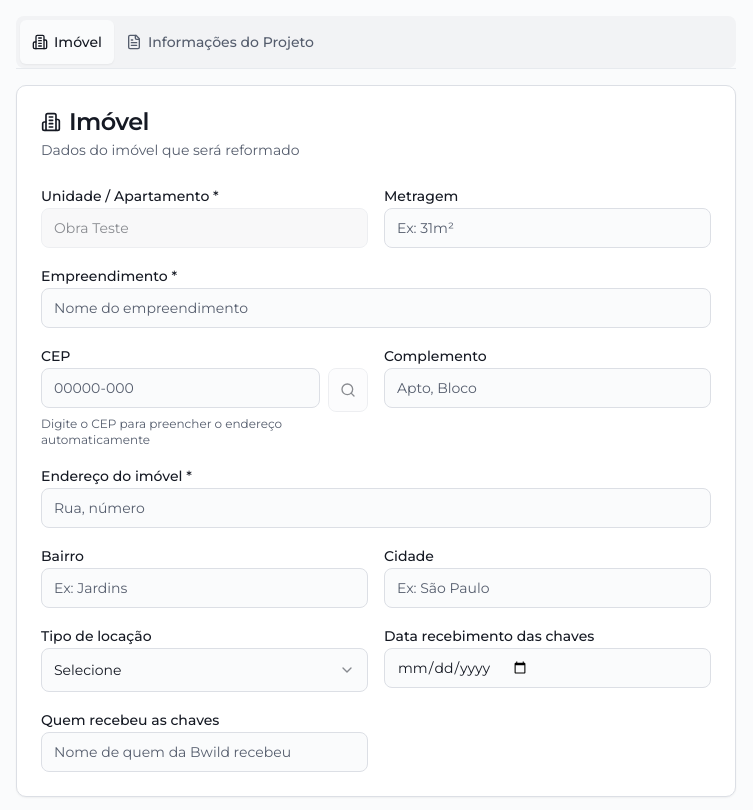
DadosCliente · Acesso à obra (persistência) › grava null quando os campos ficam vazios
Later steps or results of the test are not shown.
Click the tab "Informações do Projeto": (220, 42) [114, 20, 326, 64]
(page scrolled)
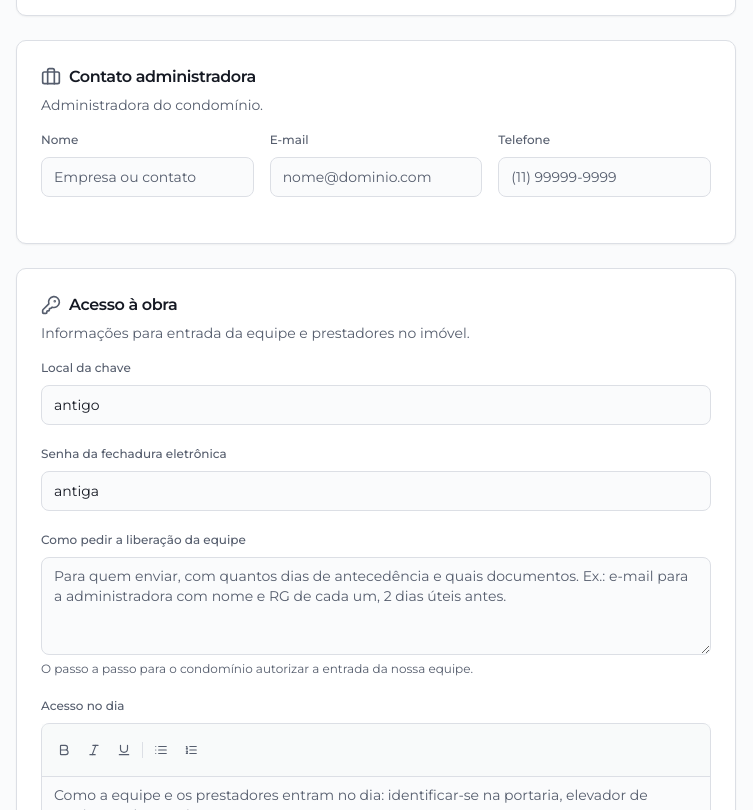
Check: the field labelled "Local da chave" holds "antigo", box [41, 385, 711, 425]
Check: the field labelled "Senha da fechadura eletrônica" holds "antiga", box [41, 471, 711, 511]
